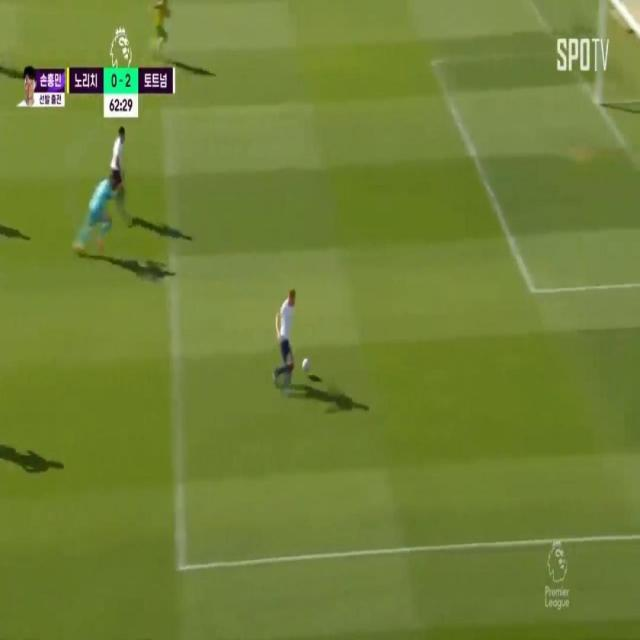ball: (302, 352, 313, 380)
goalkeeper: (81, 169, 114, 288)
player: (272, 282, 299, 391), (110, 125, 132, 223), (152, 0, 177, 56)
